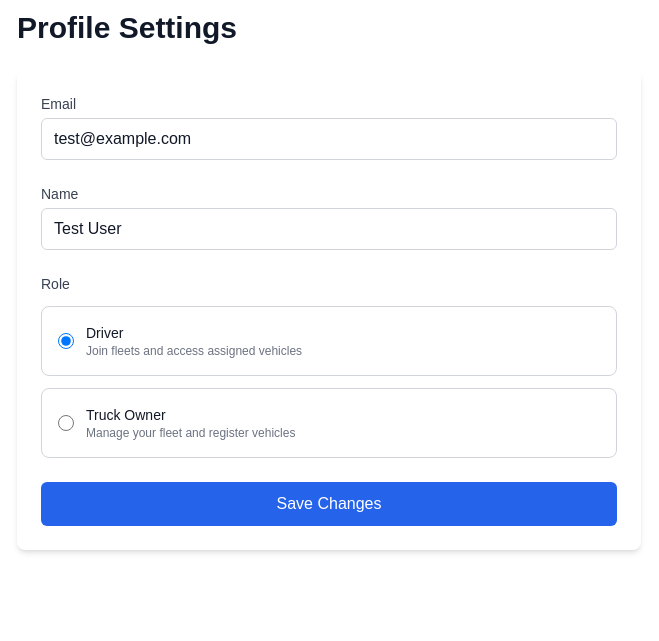
ProfilePage › successfully updates profile
Replace the text in the field labelled "Name" with "Updated Name" at (329, 229), box x1=41 y1=208 x2=617 y2=250
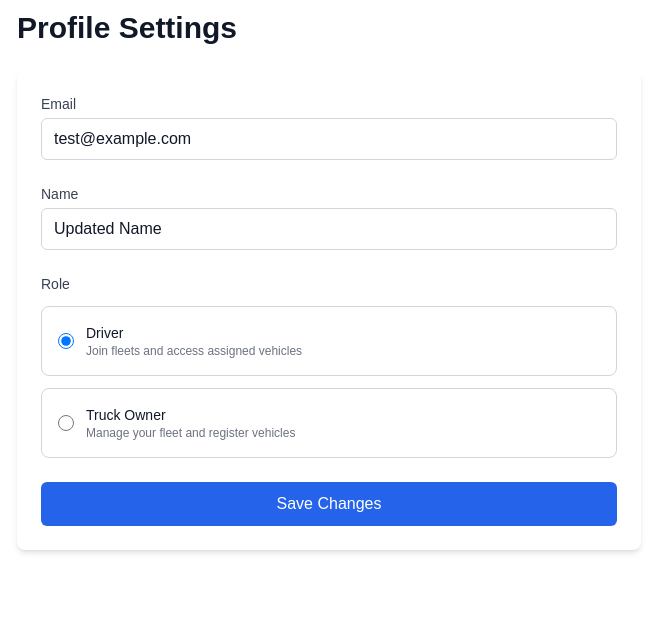
Click the button "Save Changes" at (329, 504), box x1=41 y1=482 x2=617 y2=526
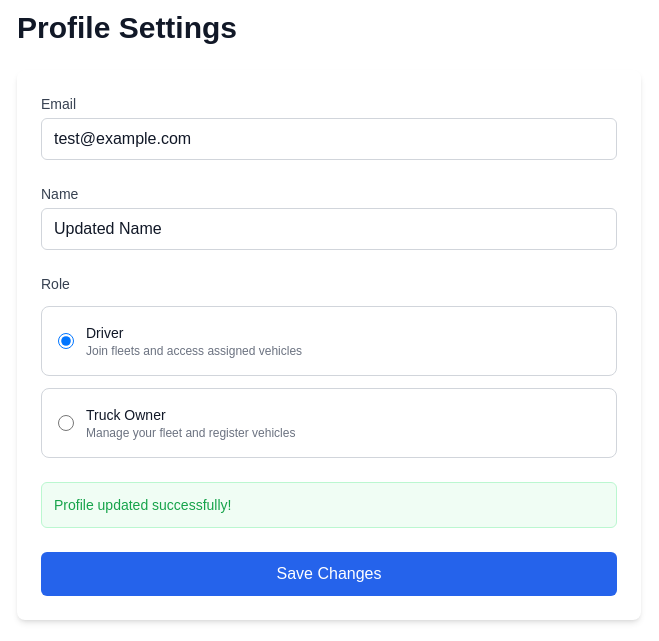
Check: the text "Profile updated successfully!" is shown, box x1=54 y1=497 x2=231 y2=513
